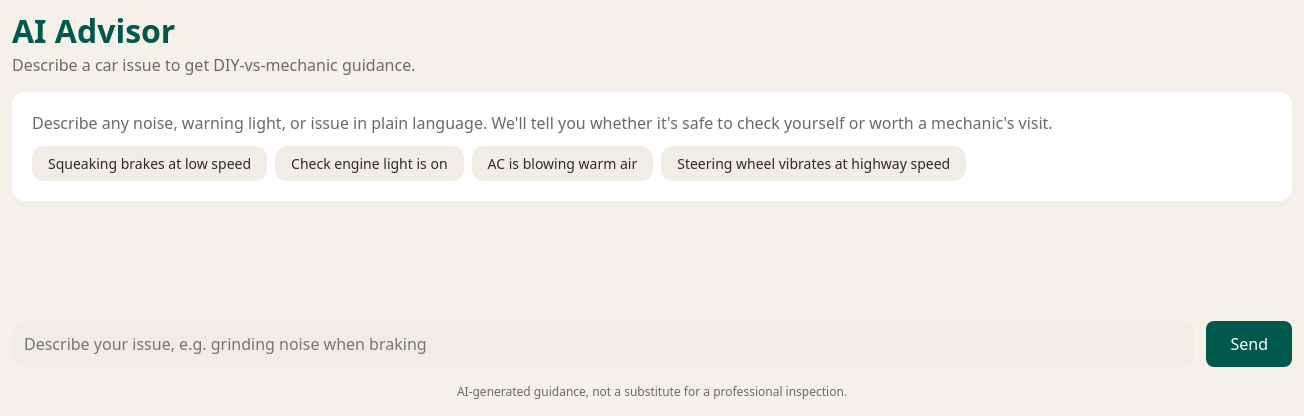
Test case: AIAdvisorPage — chatting › shows a clear error and does not add an assistant reply when the request fails
This screenshot has width=1304, height=416.
In the field with placeholder "Describe your issue, e.g. grinding noise when braking": (603, 344) [12,321,1194,367], type "Engine noise"
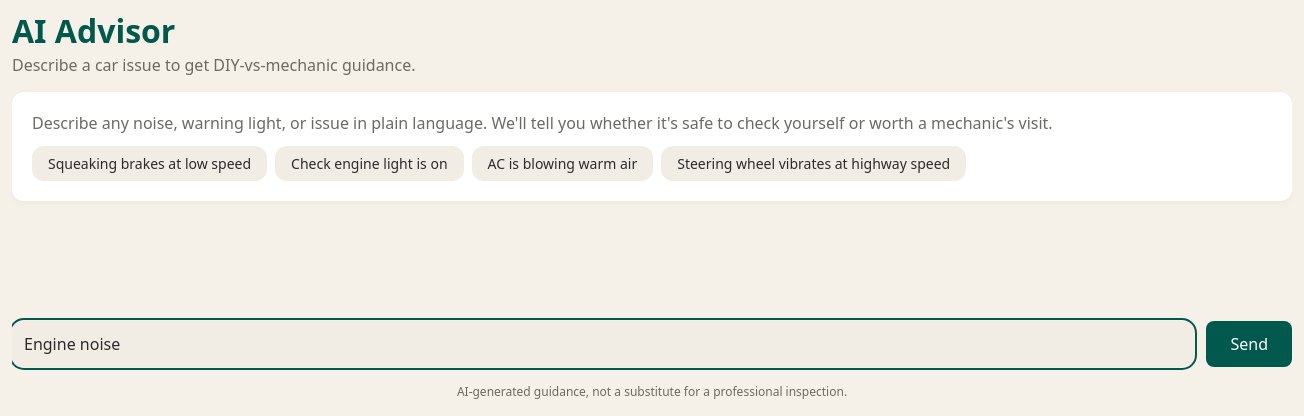
Click the button "Send": (1249, 344) [1206,321,1292,367]
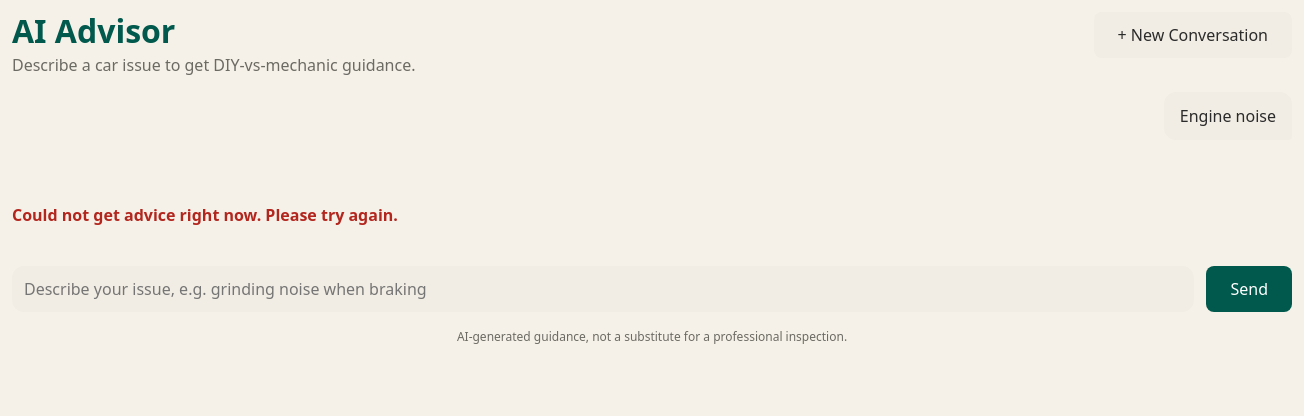
Expected: the message reads "Could not get advice right now. Please try again.", [12,204,398,226]
